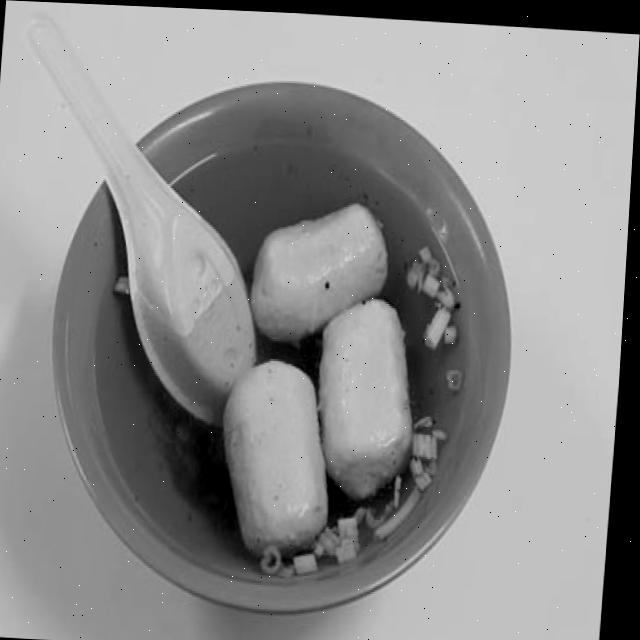熟制海鲜: (33, 74, 553, 631)
